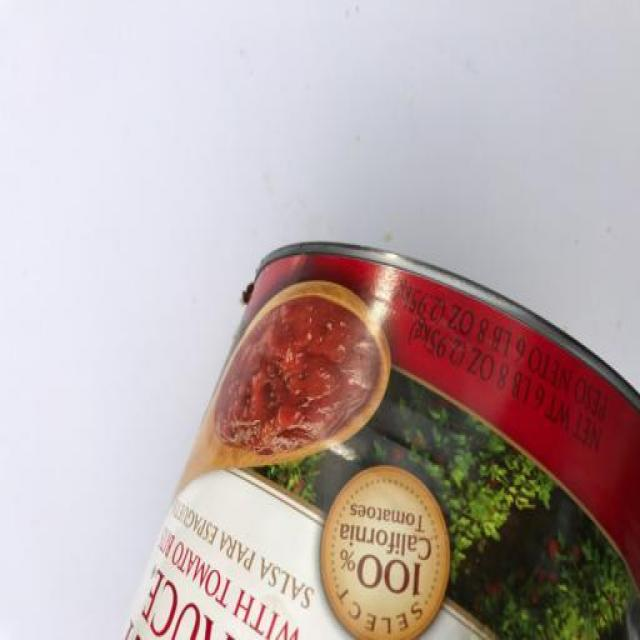metel: (123, 227, 640, 640)
